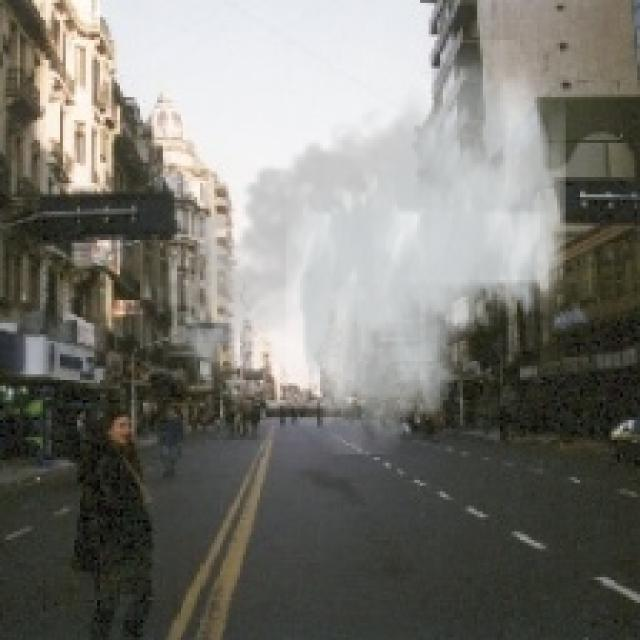Smoke: (168, 39, 566, 454)
